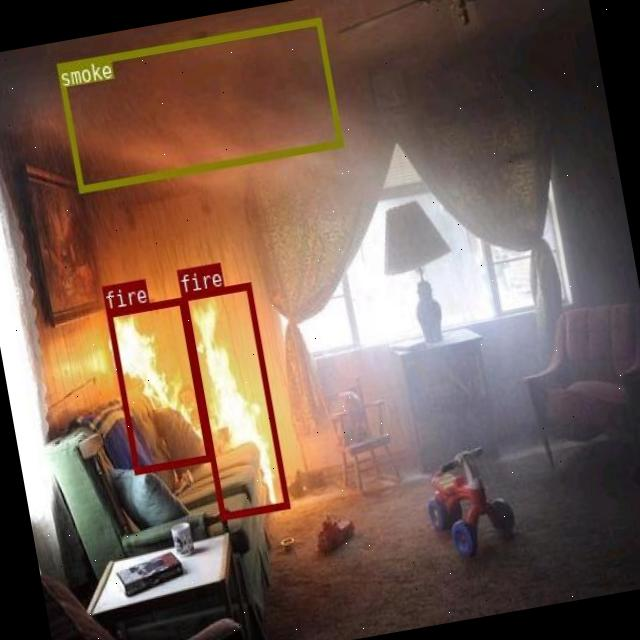fire: (180, 281, 289, 518), (106, 296, 210, 472)
smoke: (55, 18, 342, 192)
